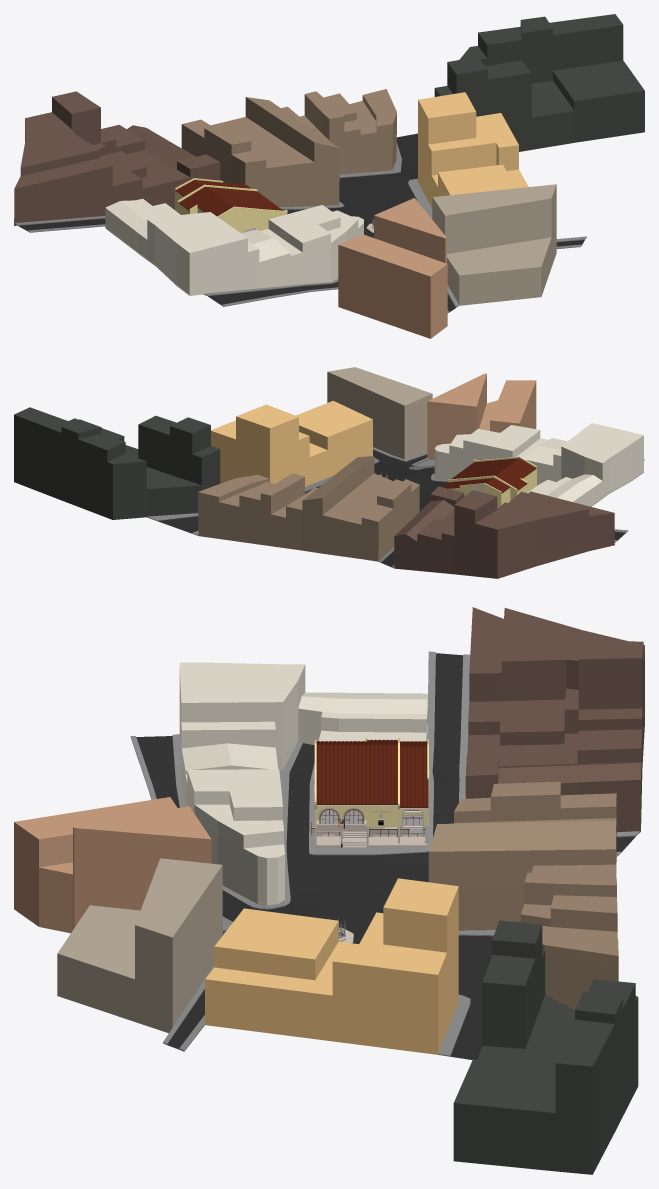
Rendered from Ajuntament 2.fbx.
3 renders of one model, top to bottom at view 1: azimuth 30°, elevation 25°; view 2: azimuth 150°, elevation 25°; view 3: azimuth 270°, elevation 25°, orthographic. The views are drawn at different scales.
Parts seen in each view (by area): view 1: Buildings 3, Buildings 2, Buildings 1, Buildings 7, Buildings 5, Buildings 6, Buildings 4, StreetFloor CarWay, Ajuntament Finished, StreetFloor sidewalk; view 2: Buildings 3, Buildings 2, Buildings 1, Buildings 7, Buildings 4, Buildings 5, Buildings 6, Ajuntament Finished, StreetFloor CarWay, StreetFloor sidewalk; view 3: Buildings 3, Buildings 4, Buildings 1, Buildings 7, Buildings 2, StreetFloor CarWay, Buildings 5, Buildings 6, Ajuntament Finished, StreetFloor sidewalk.
Boxes of the visible parts, x1,y1,x2,y2 form: Buildings 3: [434, 14, 644, 151]; Buildings 2: [181, 89, 396, 206]; Buildings 1: [14, 91, 220, 225]; Buildings 7: [105, 198, 363, 295]; Buildings 5: [432, 184, 556, 305]; Buildings 6: [338, 198, 447, 338]; Buildings 4: [418, 92, 528, 207]; StreetFloor CarWay: [18, 133, 584, 312]; Ajuntament Finished: [175, 178, 287, 233]; StreetFloor sidewalk: [14, 142, 586, 313]; Buildings 3: [14, 407, 220, 519]; Buildings 2: [198, 456, 419, 561]; Buildings 1: [394, 486, 614, 578]; Buildings 7: [434, 423, 643, 506]; Buildings 4: [211, 400, 372, 486]; Buildings 5: [327, 367, 432, 459]; Buildings 6: [427, 373, 536, 459]; Ajuntament Finished: [442, 456, 536, 508]; StreetFloor CarWay: [157, 450, 625, 567]; StreetFloor sidewalk: [146, 447, 644, 568]; Buildings 3: [453, 920, 638, 1174]; Buildings 4: [205, 878, 458, 1054]; Buildings 1: [465, 607, 644, 832]; Buildings 7: [179, 662, 427, 905]; Buildings 2: [428, 781, 618, 1009]; StreetFloor CarWay: [136, 653, 635, 1059]; Buildings 5: [57, 858, 222, 1033]; Buildings 6: [14, 797, 211, 933]; Ajuntament Finished: [311, 738, 429, 847]; StreetFloor sidewalk: [130, 651, 640, 1056].
Size of what is drawn, in the model's own units: 17048 by 2928 by 10312.
